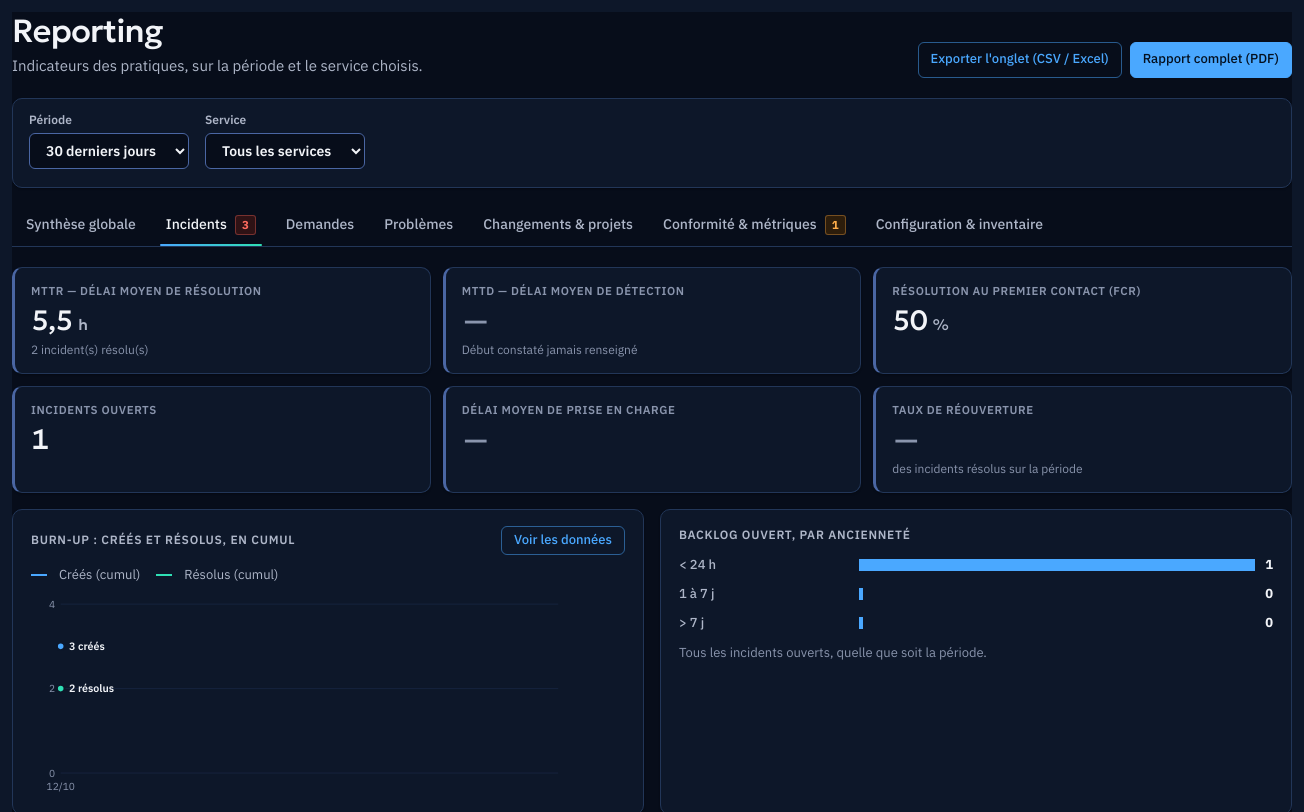
Scenario: change d'onglet sans passer à la vue les données de l'onglet précédent
Click the tab "Problèmes" at (419, 225), box [370, 204, 467, 246]
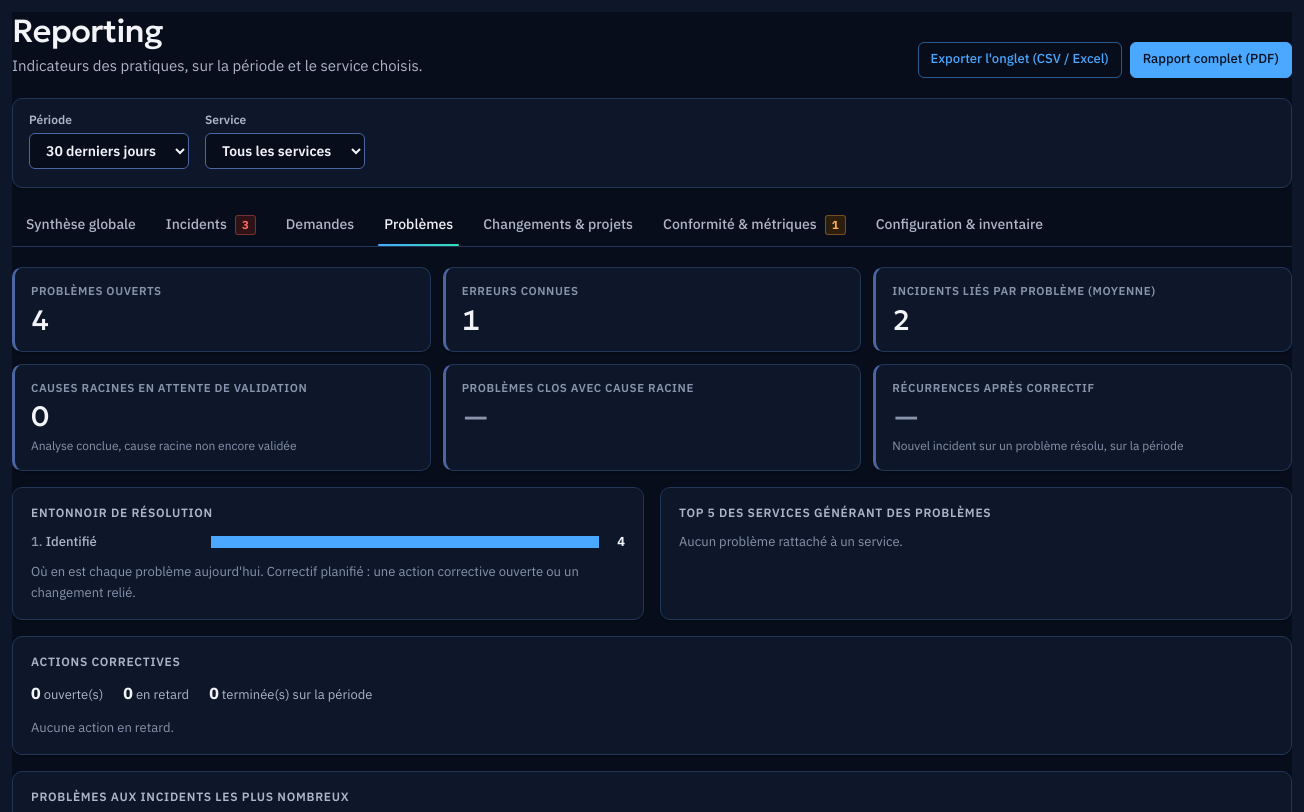
Result: the heading "Entonnoir de résolution" is shown at [31, 504, 213, 522]
